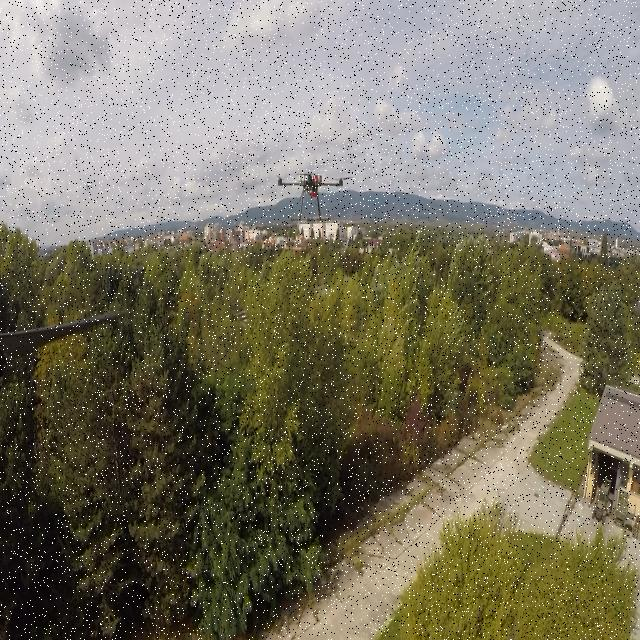UAV: (274, 170, 356, 228)
